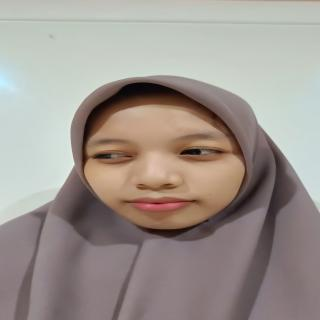Sedih: (80, 88, 253, 248)
